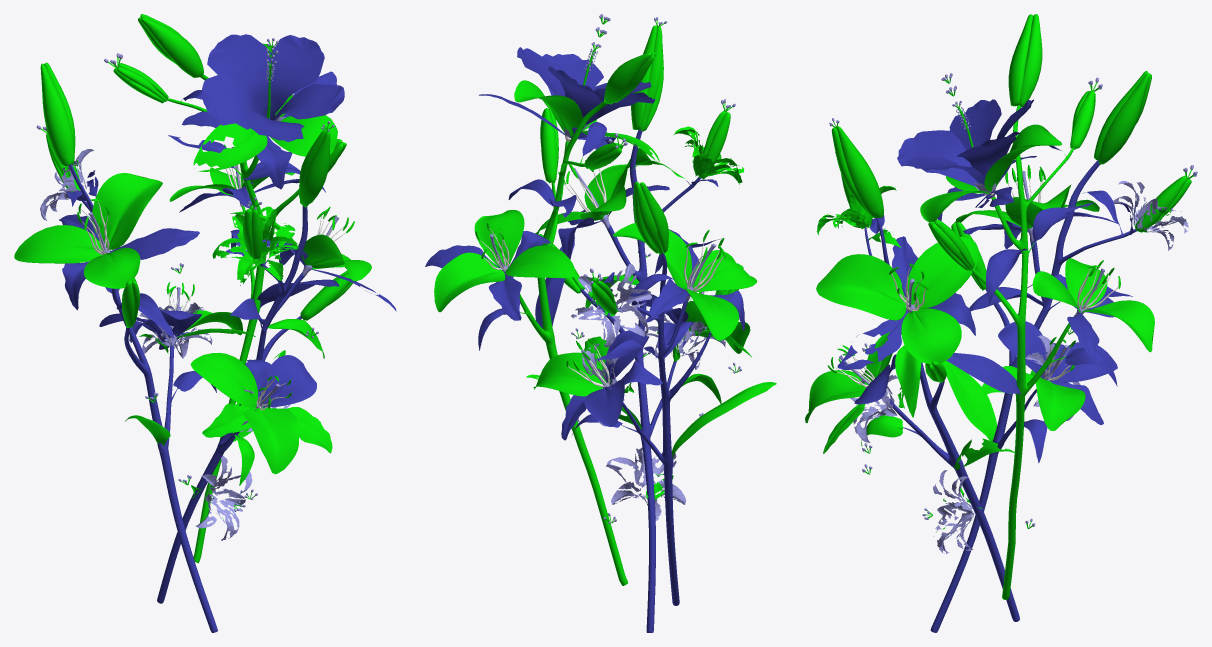
Rendered from azucenas.glb.
The picture shows the model from 3 angles, left to right: view 1: azimuth 30°, elevation 25°; view 2: azimuth 150°, elevation 25°; view 3: azimuth 270°, elevation 25°; orthographic projection. The views are drawn at different scales.
Visible parts, largest first — view 1: prueba_final; view 2: prueba_final; view 3: prueba_final.
Boxes of the visible parts, bbox=[...] form: prueba_final: bbox=[14, 14, 396, 632]; prueba_final: bbox=[425, 14, 776, 632]; prueba_final: bbox=[805, 14, 1197, 632].
Size of the model in its own units: 291 by 550 by 323.
